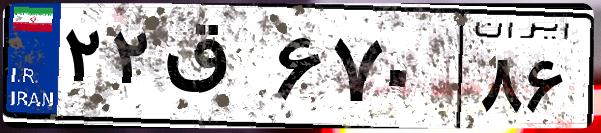0: (385, 28, 445, 110)
2: (57, 26, 110, 100), (110, 28, 158, 98)
6: (270, 28, 330, 110), (525, 38, 570, 115)
7: (330, 28, 385, 110)
8: (475, 38, 525, 113)
ق: (158, 20, 270, 120)
